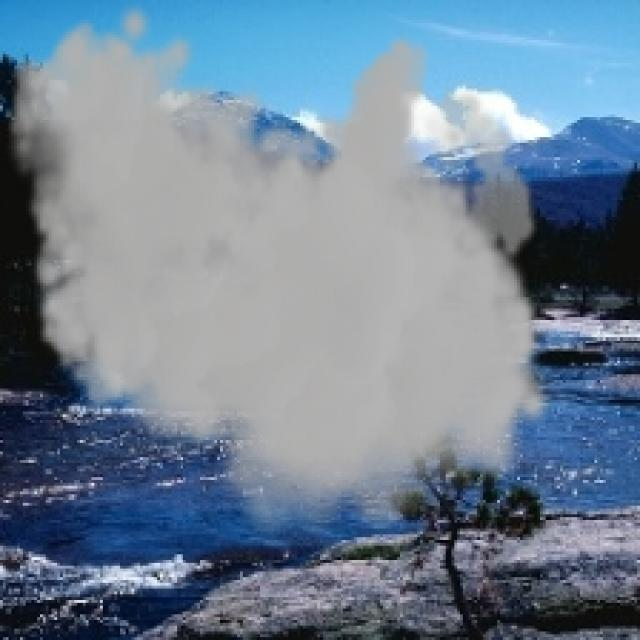smoke: (5, 0, 555, 552)
